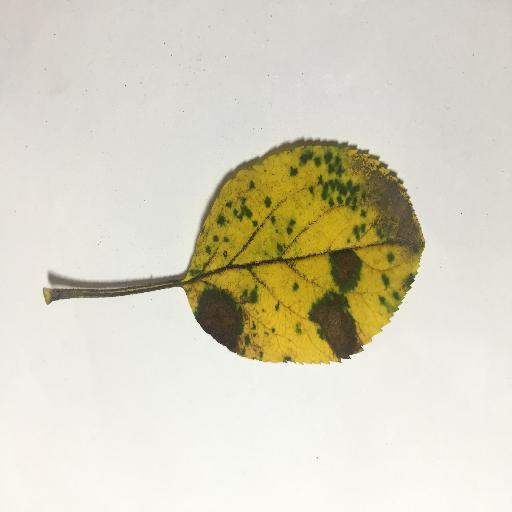Brown_Spot: (354, 171, 417, 248), (288, 153, 356, 214), (302, 295, 363, 358), (198, 287, 241, 341), (324, 249, 356, 286)
